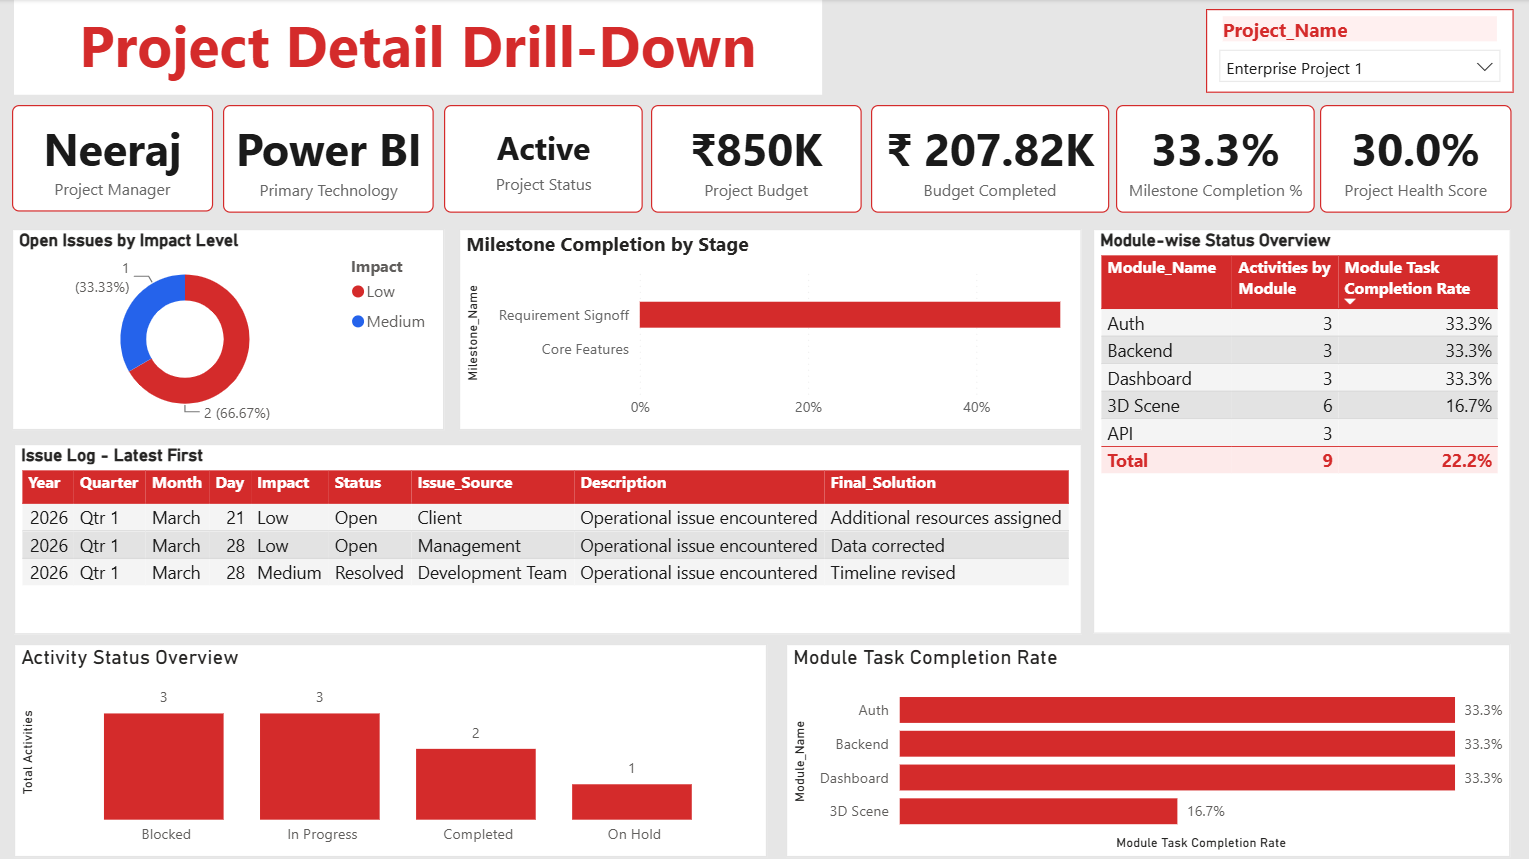

This screenshot's page, from the dashboard's own definition file:
{"tool":"powerbi","page":{"name":"Project","canvas":[1280,720],"ordinal":2},"visuals":[{"type":"card","fields":{"Values":["Min(Project_Master.Project_Manager)"]},"box":[10,88.8,167.6,88.8],"z":0},{"type":"card","fields":{"Values":["Min(Project_Master.Primary_Technology)"]},"box":[186.6,88.2,176.5,89.9],"z":1000},{"type":"card","fields":{"Values":["Min(Project_Master.Project_Status)"]},"box":[370.6,88.2,166.4,89.9],"z":2000},{"type":"card","fields":{"Values":["_Measures.Total Portfolio Budget"]},"box":[543.7,88.2,175.6,89.9],"z":3000},{"type":"card","fields":{"Values":["_Measures.Budget Completed"]},"box":[727.2,88.4,198.8,90.1],"z":4000},{"type":"card","fields":{"Values":["_Measures.Milestone Completion %"]},"box":[931.9,88.1,166.2,90],"z":5000},{"type":"donutChart","title":"Open Issues by Impact Level","fields":{"Category":["Issue_Log.Impact"],"Y":["_Measures.Total Issues"]},"box":[9.8,191.8,360.9,168],"z":6000},{"type":"barChart","title":"Milestone Completion by Stage","fields":{"Category":["Milestones.Milestone_Name"],"Y":["_Measures.Milestone Completion %"]},"box":[383.7,191.8,520.2,168],"z":7000},{"type":"tableEx","title":"Issue Log - Latest First","fields":{"Values":["Issue_Log.Reported_Date.Variation.Date Hierarchy.Year","Issue_Log.Reported_Date.Variation.Date Hierarchy.Quarter","Issue_Log.Reported_Date.Variation.Date Hierarchy.Month","Issue_Log.Reported_Date.Variation.Date Hierarchy.Day","Issue_Log.Impact","Issue_Log.Status","Issue_Log.Issue_Source","Issue_Log.Description","Issue_Log.Final_Solution"]},"box":[11.9,371.8,892,159.3],"z":8000},{"type":"slicer","fields":{"Values":["Project_Master.Project_Name"]},"box":[1007.6,8.5,256.6,69.7],"z":9000},{"type":"textbox","box":[11.5,0,674.7,80.2],"z":10000},{"type":"card","fields":{"Values":["_Measures.Project Health Score"]},"box":[1102.7,88.4,159.7,90.1],"z":11000},{"type":"tableEx","title":"Module-wise Status Overview","fields":{"Values":["Modules.Module_Name","_Measures.Activities by Module","_Measures.Module Task Completion Rate"]},"box":[912.6,191.8,349,338.2],"z":12000},{"type":"clusteredColumnChart","title":"Activity Status Overview ","fields":{"Y":["_Measures.Total Activities"],"Category":["Daily_Activity.Status"]},"box":[11.9,538.7,628.6,177.7],"z":13000},{"type":"clusteredBarChart","title":"Module Task Completion Rate","fields":{"Category":["Modules.Module_Name"],"Y":["_Measures.Module Task Completion Rate"]},"box":[656.8,538.7,604.8,177.7],"z":14000}]}

Visuals, with their boxes in screenshot pixels (x1, y1, x2, y2), scaled from the page's 1280x720 canvas onto the 1529x859 screenshot:
card - Min(Project_Master.Project_Manager): region(12, 106, 212, 212)
card - Min(Project_Master.Primary_Technology): region(223, 105, 434, 212)
card - Min(Project_Master.Project_Status): region(443, 105, 641, 212)
card - _Measures.Total Portfolio Budget: region(649, 105, 859, 212)
card - _Measures.Budget Completed: region(869, 105, 1106, 213)
card - _Measures.Milestone Completion %: region(1113, 105, 1312, 212)
"Open Issues by Impact Level" donutChart: region(12, 229, 443, 429)
"Milestone Completion by Stage" barChart: region(458, 229, 1080, 429)
"Issue Log - Latest First" tableEx: region(14, 444, 1080, 634)
slicer - Project_Master.Project_Name: region(1204, 10, 1510, 93)
textbox: region(14, 0, 820, 96)
card - _Measures.Project Health Score: region(1317, 105, 1508, 213)
"Module-wise Status Overview" tableEx: region(1090, 229, 1507, 632)
"Activity Status Overview " clusteredColumnChart: region(14, 643, 765, 855)
"Module Task Completion Rate" clusteredBarChart: region(785, 643, 1507, 855)
